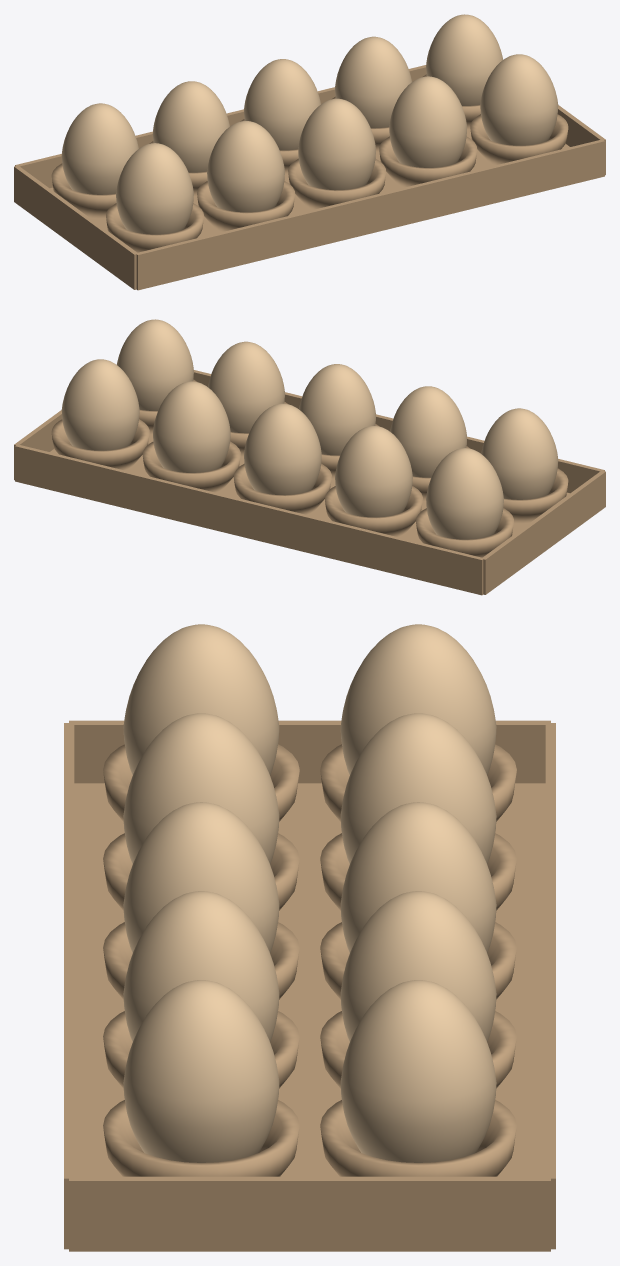
File: eggs.glb
3 views of the same model, one above another, from view 1: azimuth 30°, elevation 25°; view 2: azimuth 150°, elevation 25°; view 3: azimuth 270°, elevation 25° (orthographic). The views are drawn at different scales.
Visible parts, largest first — view 1: Packaging end.002, Egg 1, Egg 2, Egg 5, Egg 4, Egg 3, Egg 6, Packaging side.002, Egg 8, Egg 9, Egg 10, Egg 7 (+9 smaller); view 2: Packaging end.003, Egg 6, Egg 7, Egg 10, Egg 9, Egg 8, Egg 1, Packaging side.002, Egg 3, Egg 4, Egg 5, Egg 2 (+9 smaller); view 3: Packaging base.001, Packaging side.003, Egg 5, Egg 10, Egg 1, Egg 6, Egg 2, Egg 7, Egg 3, Egg 8, Egg 4, Egg 9 (+13 smaller).
Boxes of the visible parts, <box> form: Packaging end.002: <box>136,140,604,290</box>; Egg 1: <box>116,143,193,234</box>; Egg 2: <box>207,121,284,212</box>; Egg 5: <box>480,54,558,145</box>; Egg 4: <box>389,76,466,167</box>; Egg 3: <box>298,98,375,190</box>; Egg 6: <box>61,103,138,194</box>; Packaging side.002: <box>14,165,138,289</box>; Egg 8: <box>244,59,320,150</box>; Egg 9: <box>335,36,411,128</box>; Egg 10: <box>426,14,503,105</box>; Egg 7: <box>152,81,229,172</box>; Packaging end.003: <box>15,445,483,595</box>; Egg 6: <box>426,448,503,539</box>; Egg 7: <box>335,426,412,517</box>; Egg 10: <box>61,359,139,450</box>; Egg 9: <box>153,381,230,472</box>; Egg 8: <box>244,403,321,495</box>; Egg 1: <box>481,408,558,499</box>; Packaging side.002: <box>481,470,605,594</box>; Egg 3: <box>299,364,375,455</box>; Egg 4: <box>208,341,284,433</box>; Egg 5: <box>116,319,193,410</box>; Egg 2: <box>390,386,467,477</box>; Packaging base.001: <box>74,783,545,1176</box>; Packaging side.003: <box>69,1176,550,1251</box>; Egg 5: <box>123,980,279,1162</box>; Egg 10: <box>340,980,496,1162</box>; Egg 1: <box>123,624,279,775</box>; Egg 6: <box>340,624,496,775</box>; Egg 2: <box>123,713,279,863</box>; Egg 7: <box>340,713,496,863</box>; Egg 3: <box>123,802,279,952</box>; Egg 8: <box>340,802,496,952</box>; Egg 4: <box>123,891,279,1041</box>; Egg 9: <box>340,891,496,1041</box>.
Bounding box in the file's own units: 0.321 × 0.07 × 0.145.
